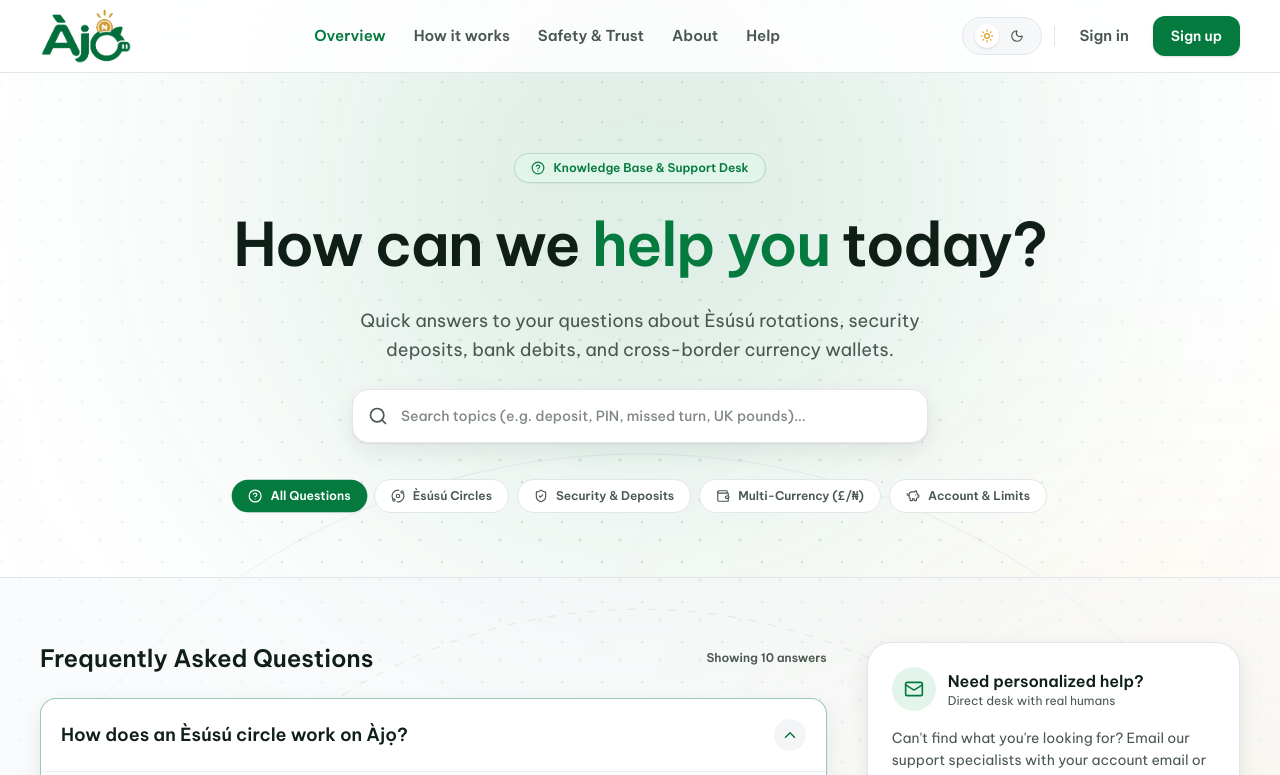
Scenario: PublicHelpCenter › filters questions when user types into the search input
Type "PIN" into the field with placeholder "Search topics" at coordinates (640, 416), box [352,388,928,442]
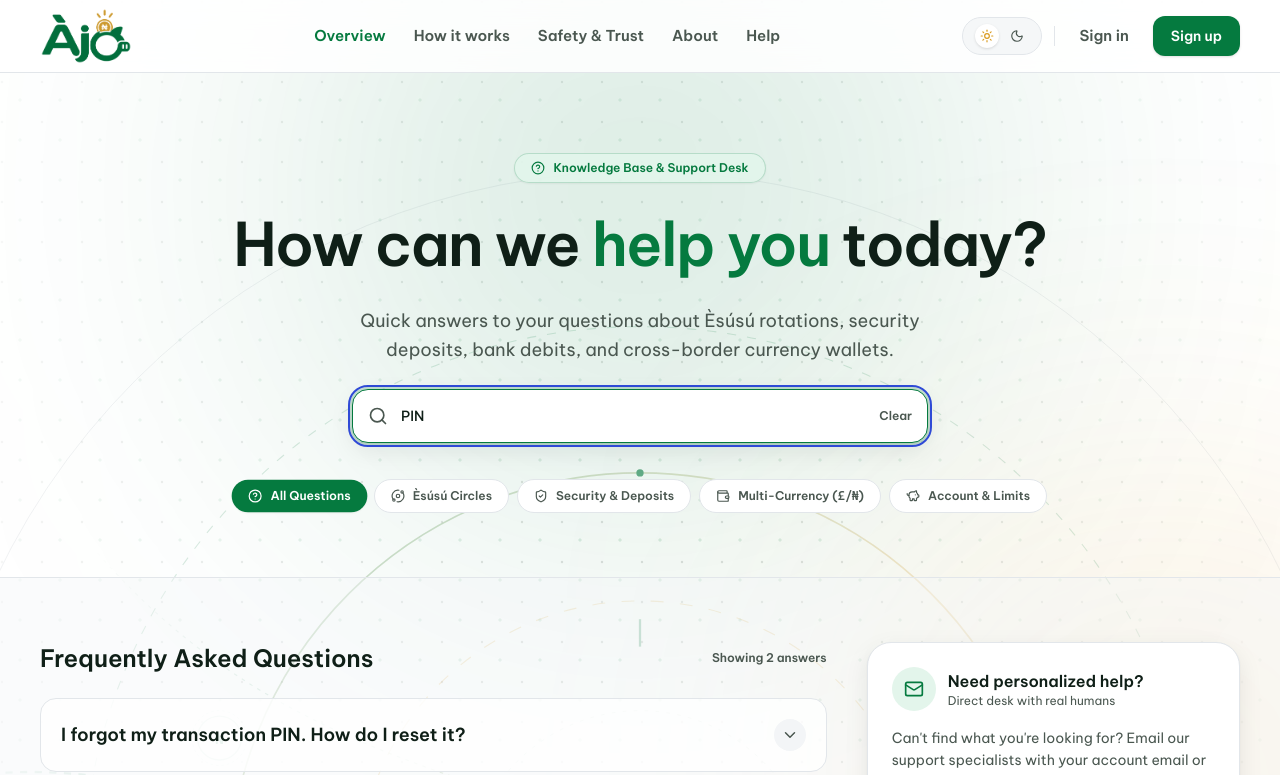
Expected: the text "I forgot my transaction PIN. How do I reset it?" is shown, [61,720,466,748]
Result: the button "How does an Èsúsú circle work on Àjọ?" is gone
